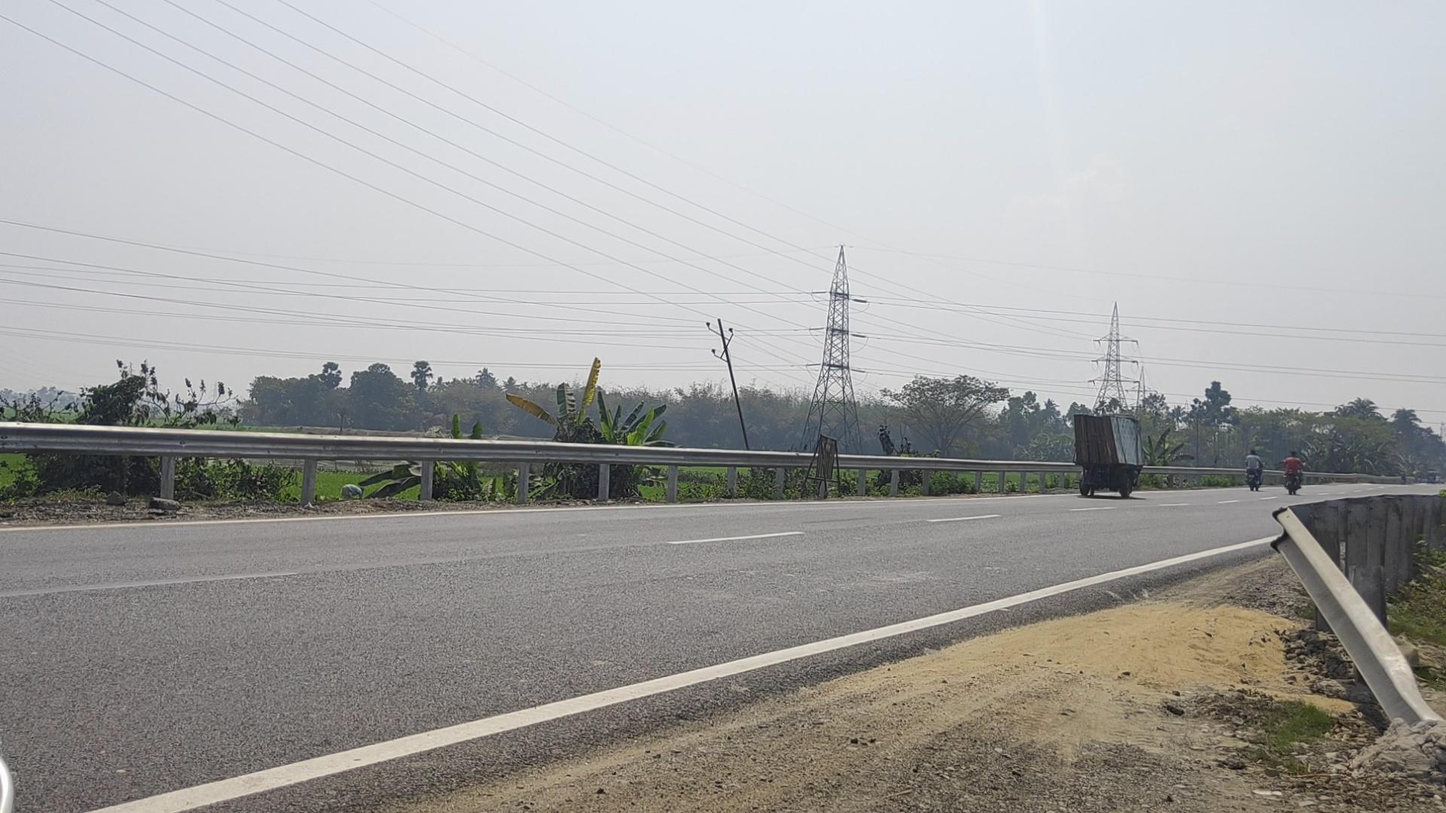bike: (1281, 451, 1306, 496), (1245, 449, 1266, 492)
